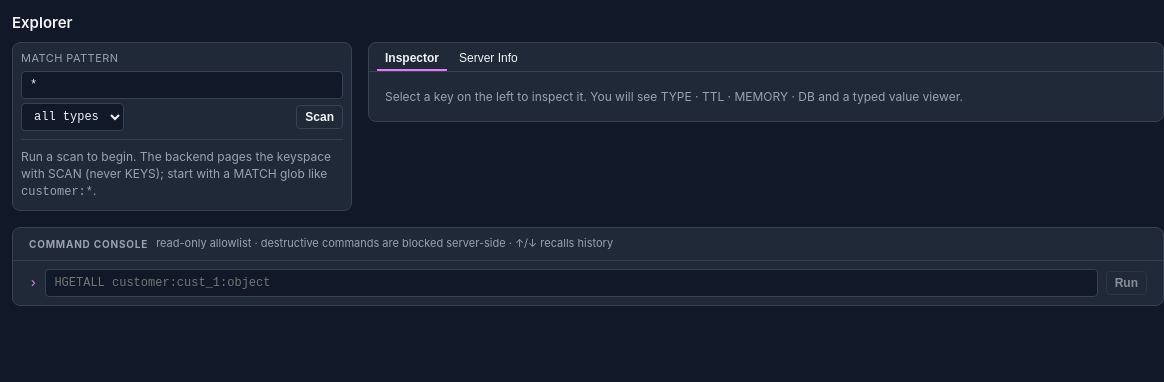
Scenario: typed inspector (value narrowed per Redis type) › a missing key (404) renders the not-found ErrorState
Click the button with test id "explorer-scan".
click(320, 117)  # box x1=296 y1=105 x2=343 y2=129
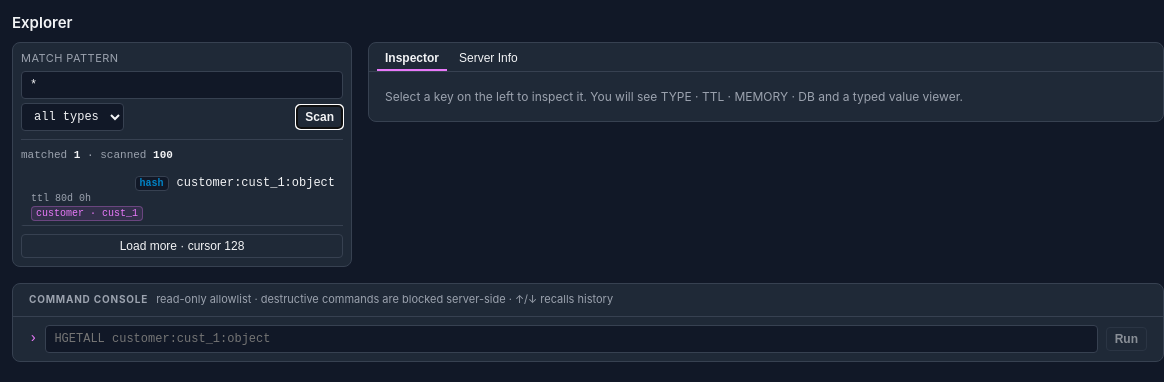
Click the button with test id "explorer-key-customer:cust_1:object".
click(256, 183)  # box x1=21 y1=172 x2=343 y2=226
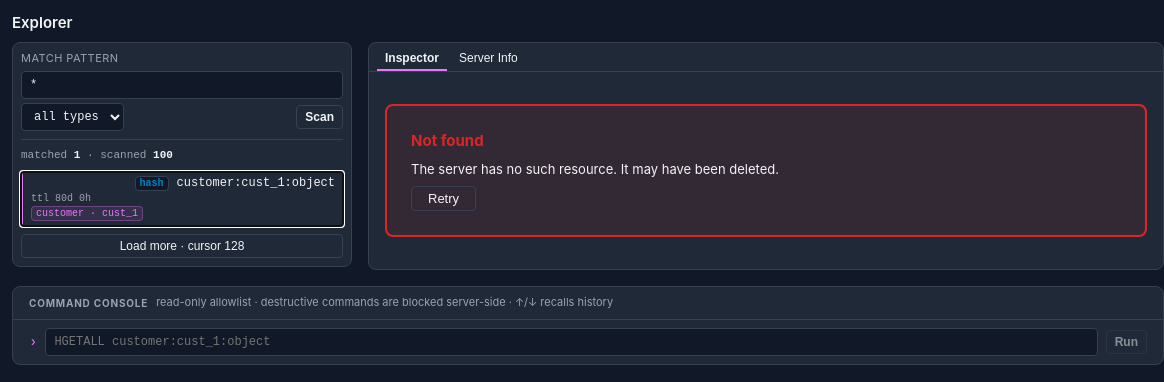
Now the message with test id "error-state" shows "Not found", box x1=411 y1=131 x2=484 y2=150
